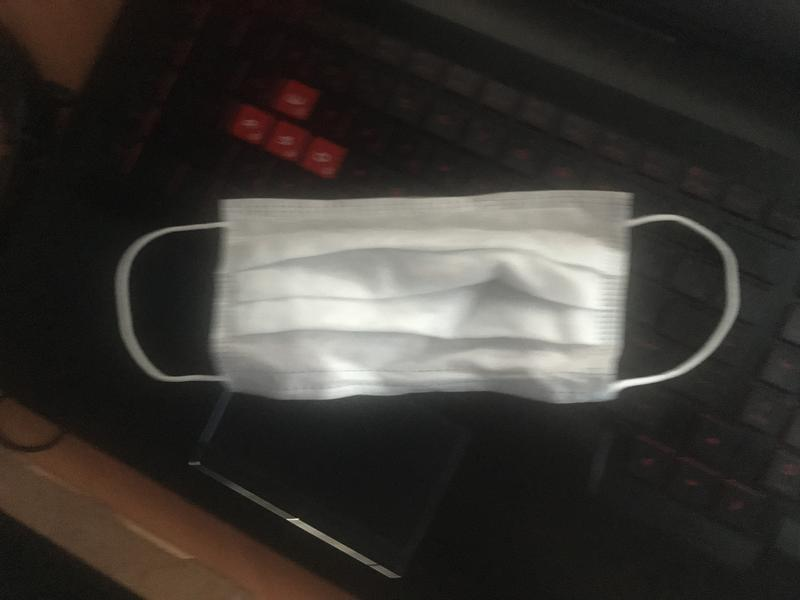medical_mask: (118, 192, 741, 401)
